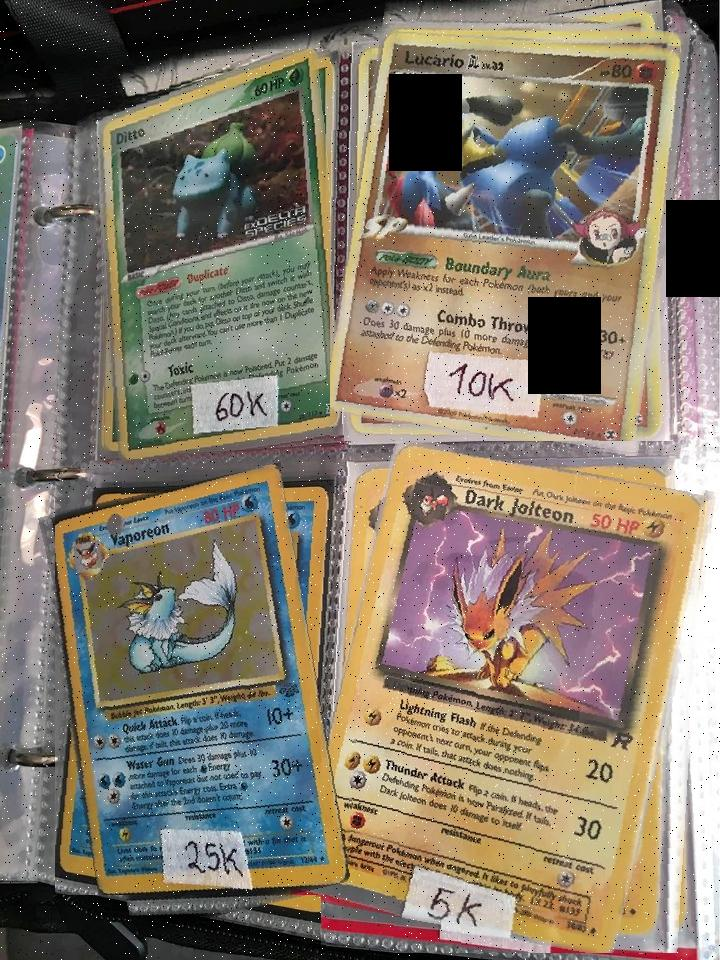card: (321, 447, 704, 953), (330, 32, 680, 441), (55, 467, 349, 895), (102, 49, 348, 461)
